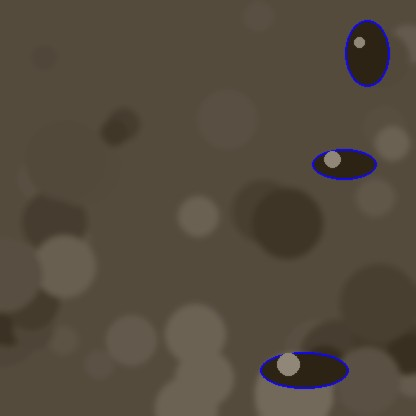gota: (260, 353, 348, 391), (345, 22, 389, 92), (312, 150, 376, 182)
